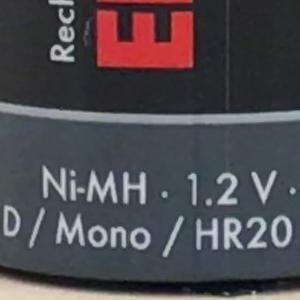NI-MH: (33, 162, 155, 210)
